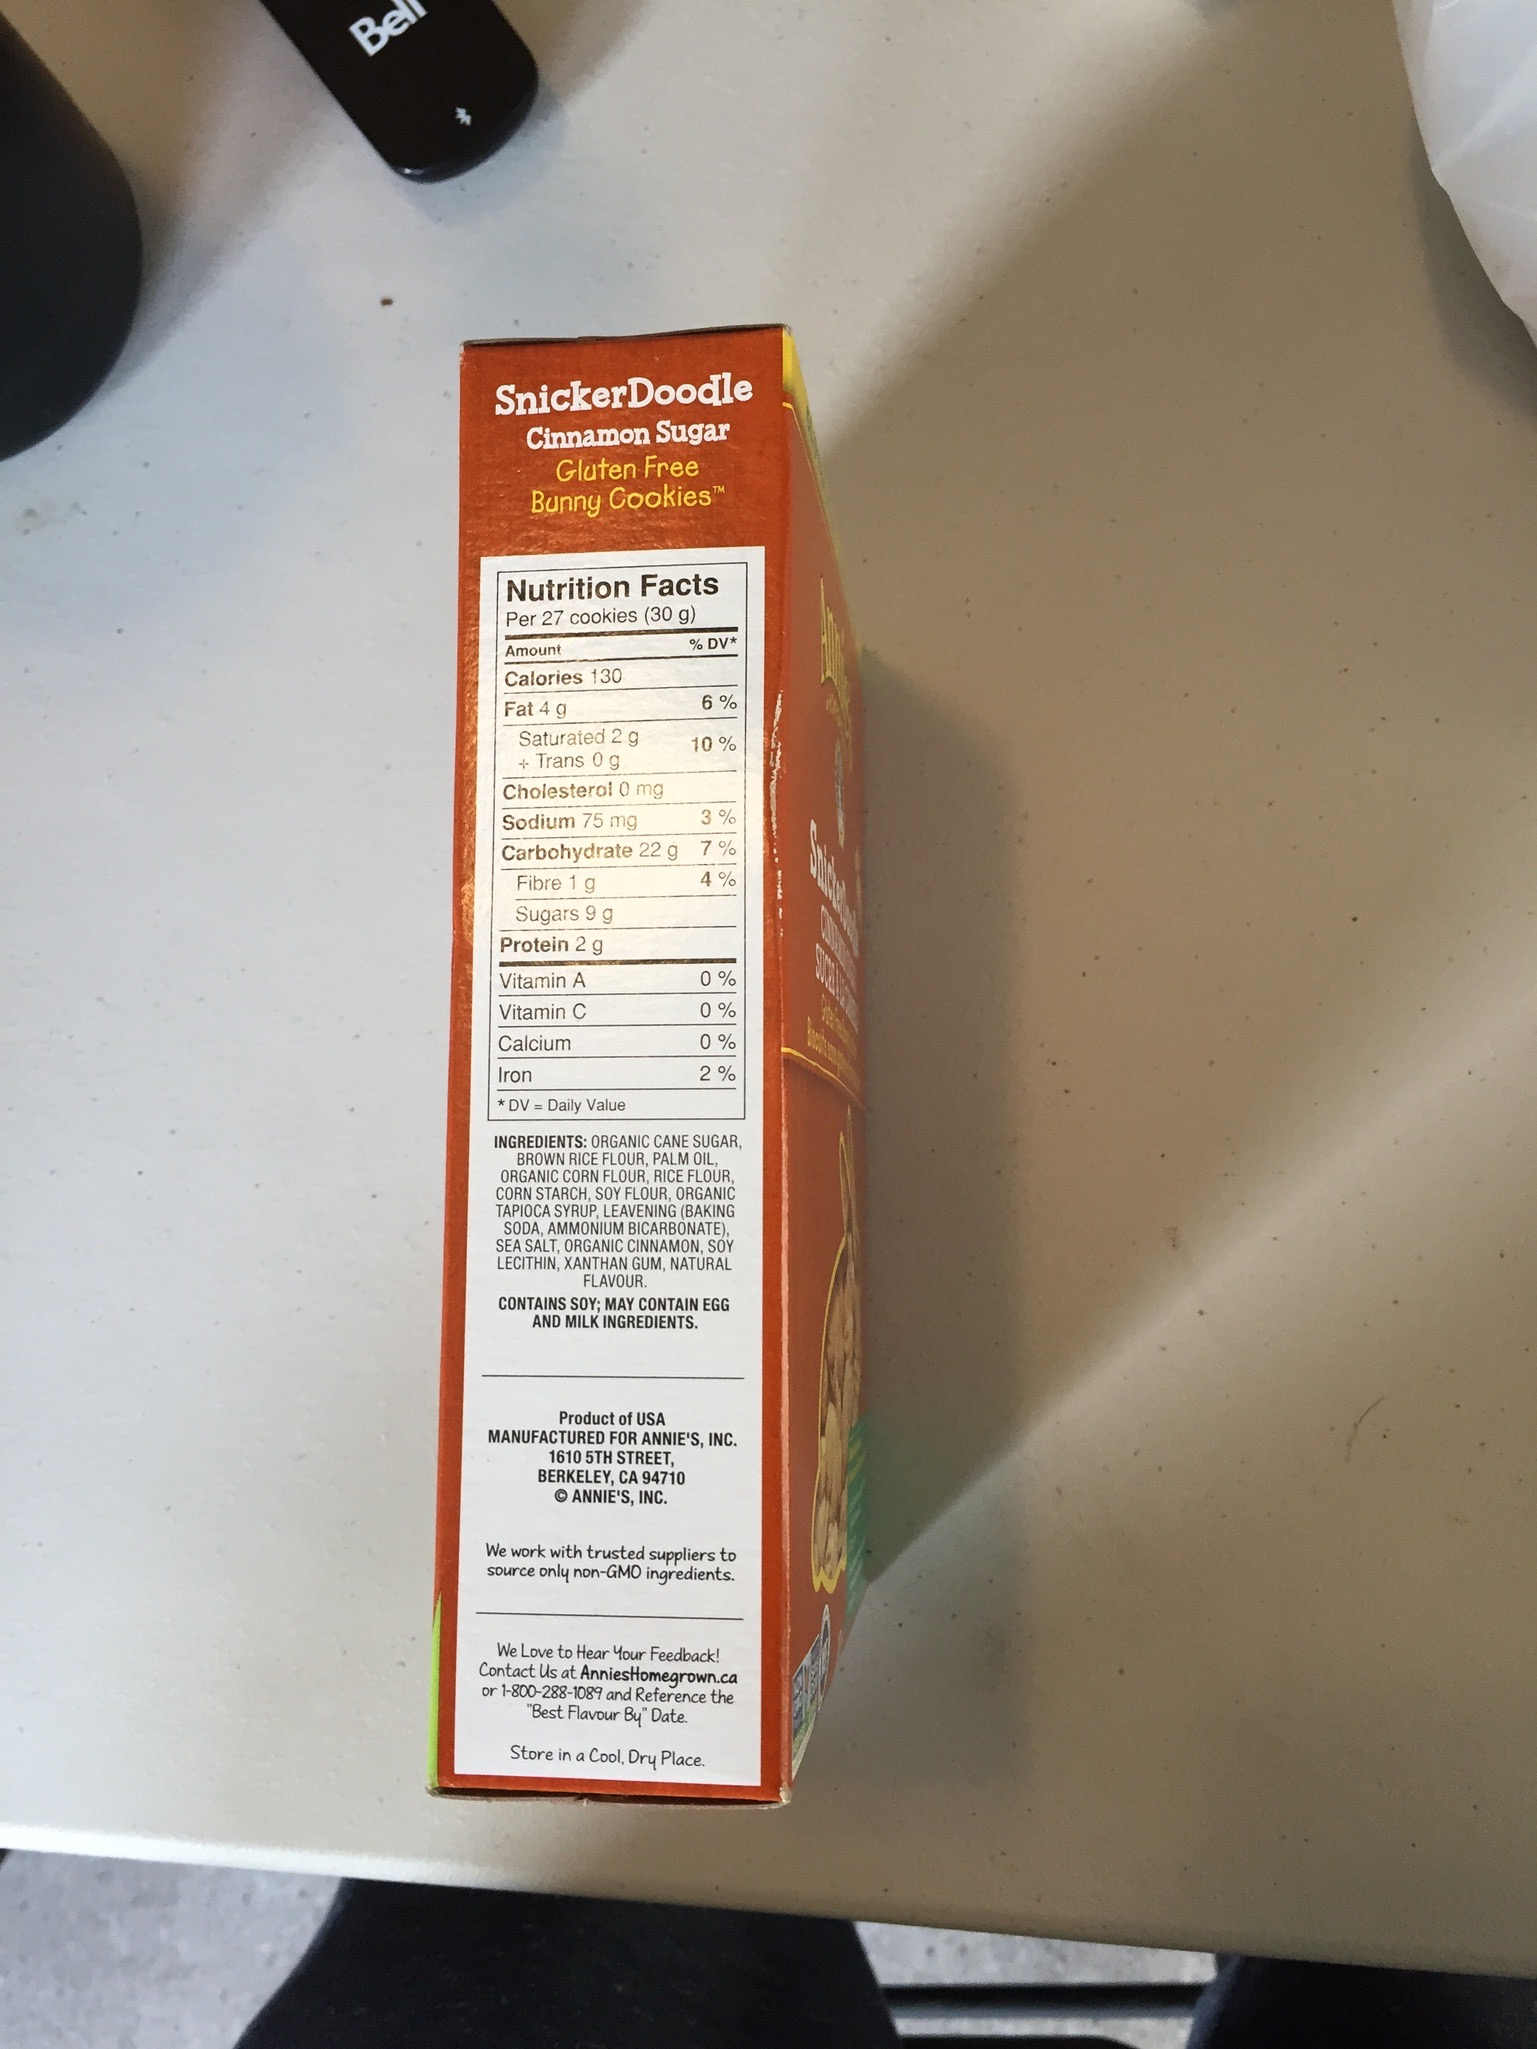annies_snickerdoodle_cinnamon_sugar: (460, 344, 768, 1787)
